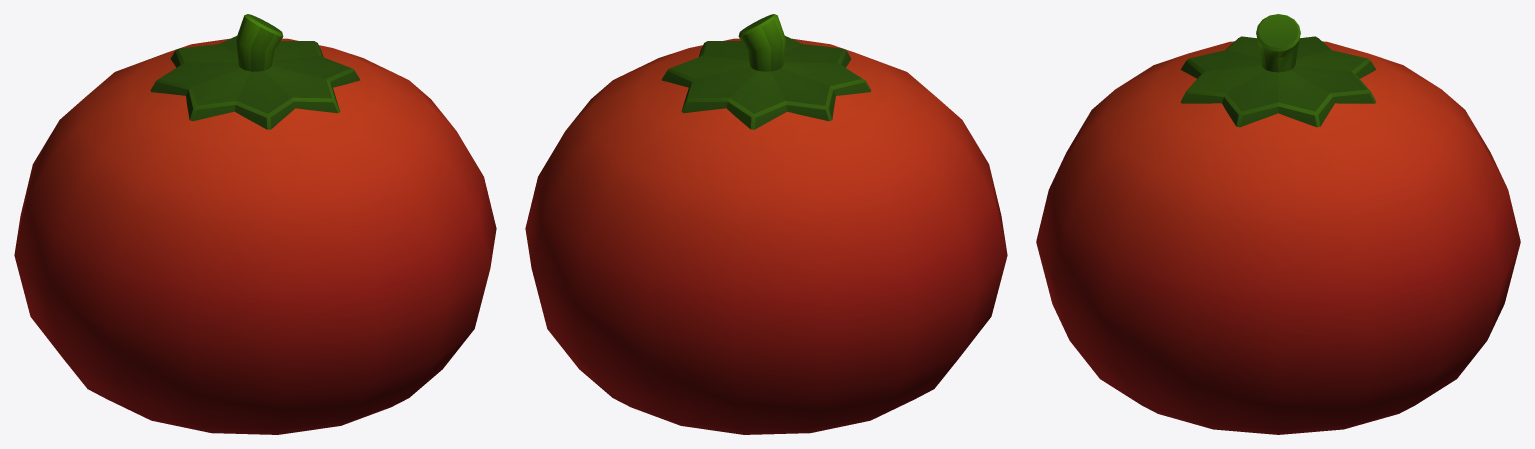
File: Tomato.fbx
The picture shows the model from 3 angles, left to right: view 1: azimuth 30°, elevation 25°; view 2: azimuth 150°, elevation 25°; view 3: azimuth 270°, elevation 25°; orthographic projection.
Visible parts, largest first — view 1: Tomato; view 2: Tomato; view 3: Tomato.
Part boxes in pixels (x1=…): Tomato: x1=14, y1=14, x2=496, y2=434; Tomato: x1=525, y1=14, x2=1007, y2=434; Tomato: x1=1036, y1=14, x2=1520, y2=434.
Bounding box in the file's own units: 52.61 × 45.17 × 52.61.
